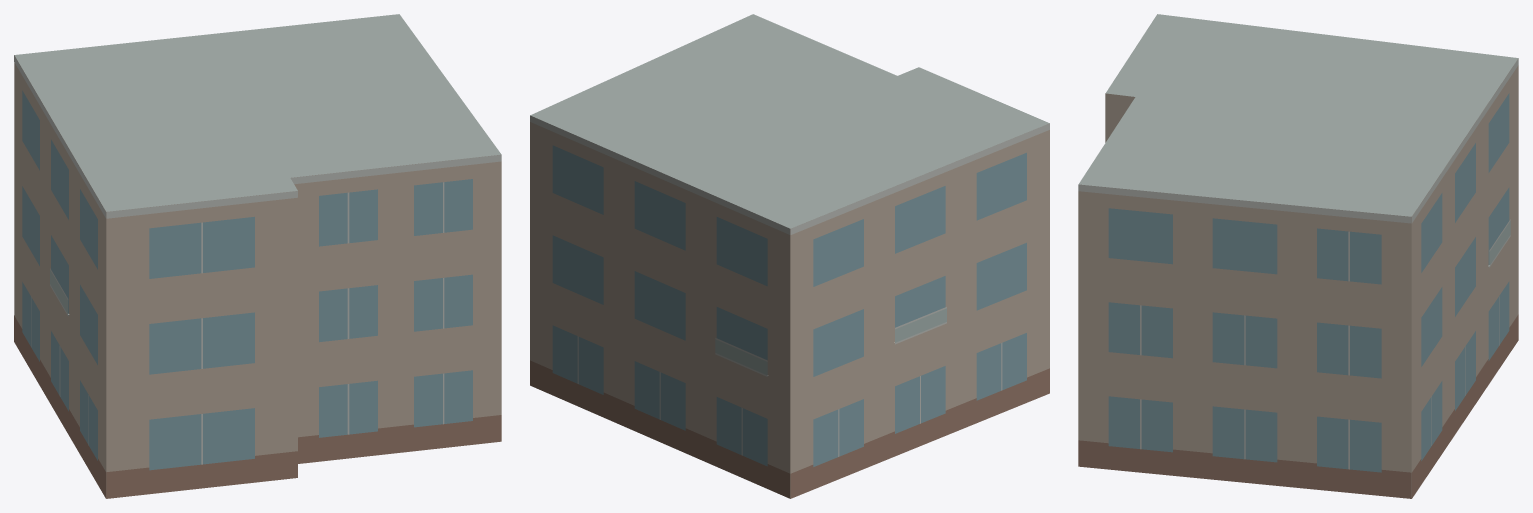
Rendered from survey-upis-32656407.glb.
The picture shows the model from 3 angles, left to right: view 1: azimuth 30°, elevation 25°; view 2: azimuth 150°, elevation 25°; view 3: azimuth 270°, elevation 25°; orthographic projection. The views are drawn at different scales.
Parts seen in each view (by area): view 1: survey-upis-32656407.tmp; view 2: survey-upis-32656407.tmp; view 3: survey-upis-32656407.tmp.
Part boxes in pixels (x1,y1,x2,y2): survey-upis-32656407.tmp: [14, 14, 501, 498]; survey-upis-32656407.tmp: [530, 14, 1049, 498]; survey-upis-32656407.tmp: [1078, 14, 1518, 498].
Size of the model in its own units: 15.73 by 10.2 by 14.44.
